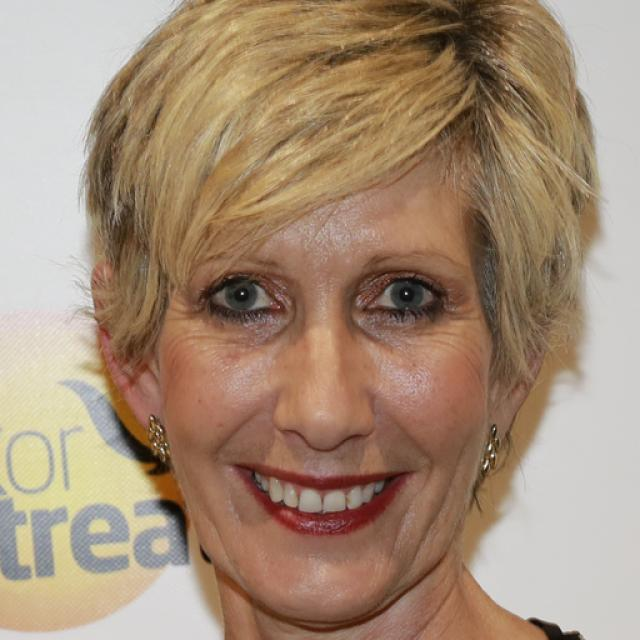Dark Circle: (194, 310, 294, 342), (358, 314, 440, 346)
Wrinkle: (382, 412, 446, 576), (400, 431, 468, 570), (204, 403, 275, 522)
